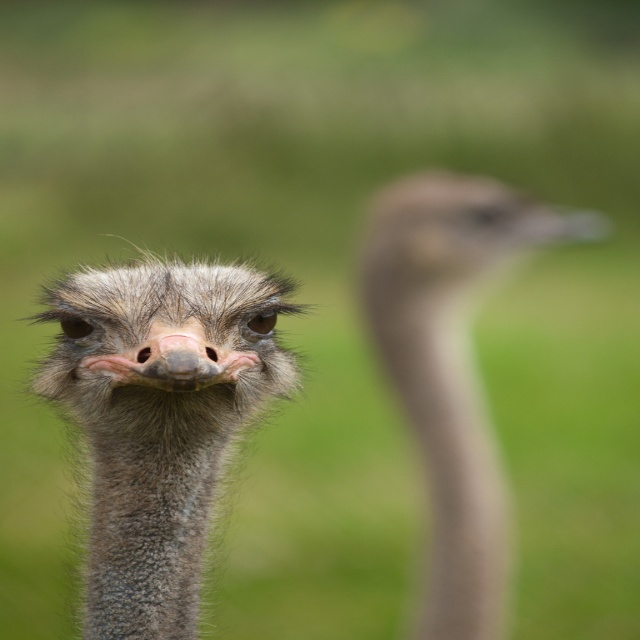Ostrich: (345, 171, 612, 639), (27, 262, 306, 640)
